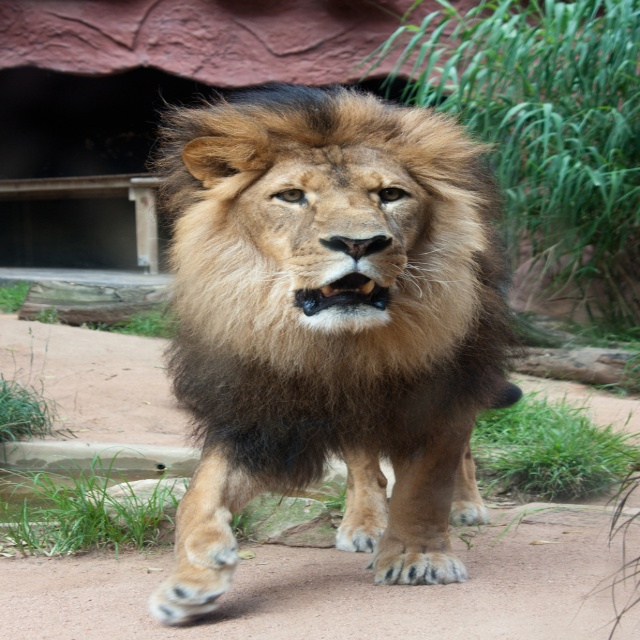Lion: (145, 78, 522, 628)
